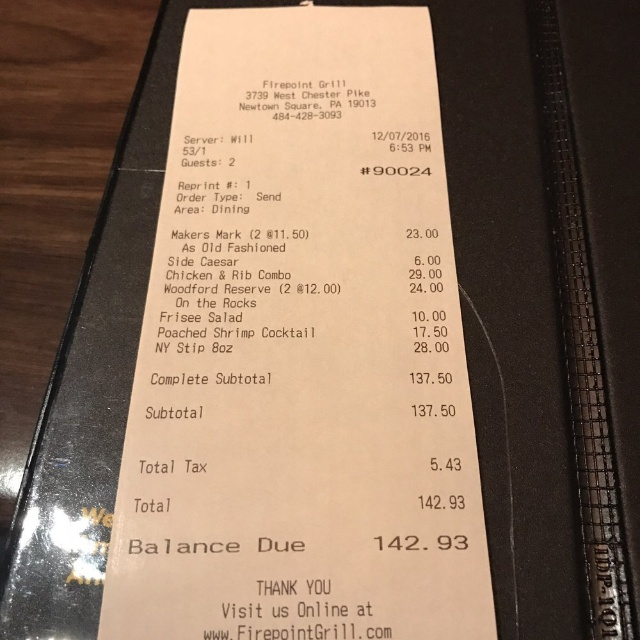invoice_table: (154, 227, 449, 354)
invoice_title: (239, 80, 378, 121)
invoice_total: (134, 494, 465, 514)
